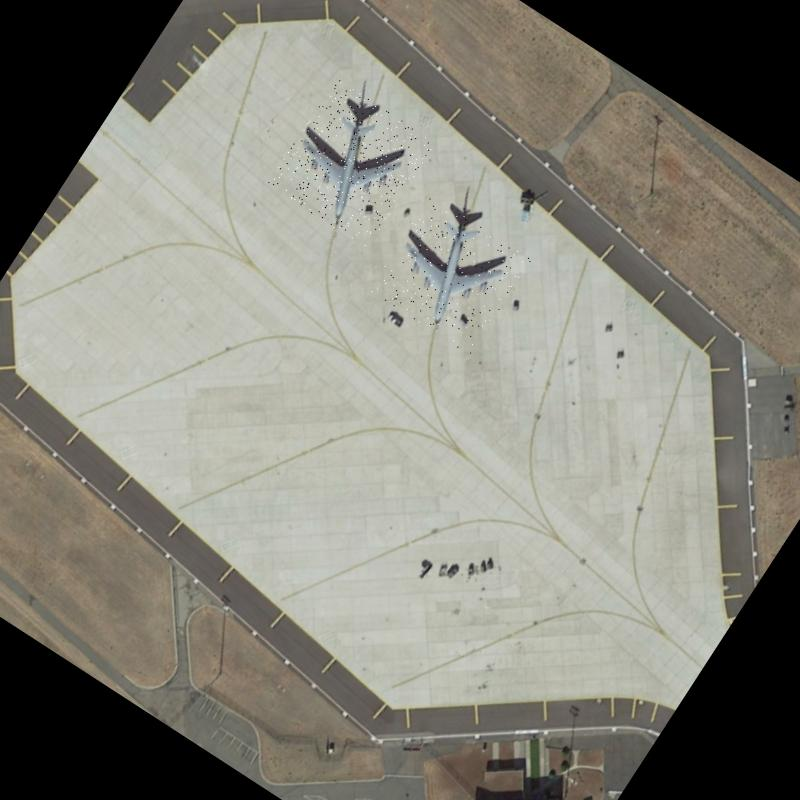A14: (267, 78, 436, 250), (368, 194, 532, 356)
